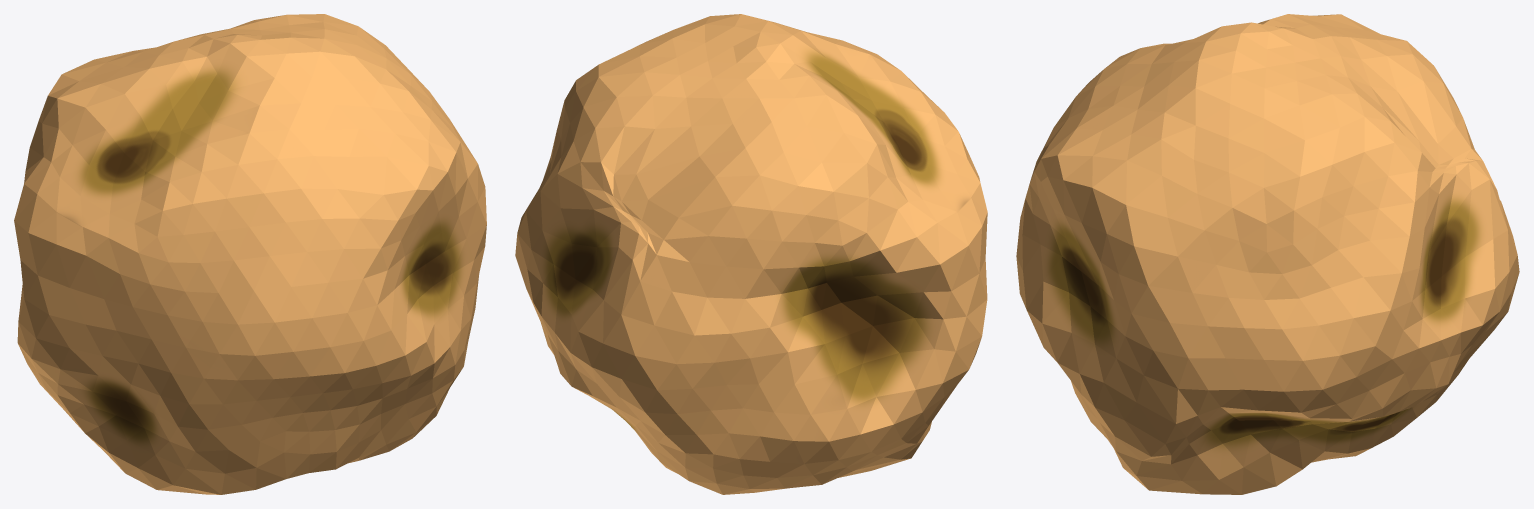
Rendered from 20220321 - Meteorite.fbx.
3 views of the same model, side by side, from view 1: azimuth 30°, elevation 25°; view 2: azimuth 150°, elevation 25°; view 3: azimuth 270°, elevation 25° (orthographic). The views are drawn at different scales.
Visible parts, largest first — view 1: Icosphere; view 2: Icosphere; view 3: Icosphere.
Part boxes in pixels (<box>): Icosphere: <box>14,14,486,494</box>; Icosphere: <box>515,14,987,494</box>; Icosphere: <box>1016,14,1519,494</box>.
Size of the model in its own units: 202 by 193 by 202.
